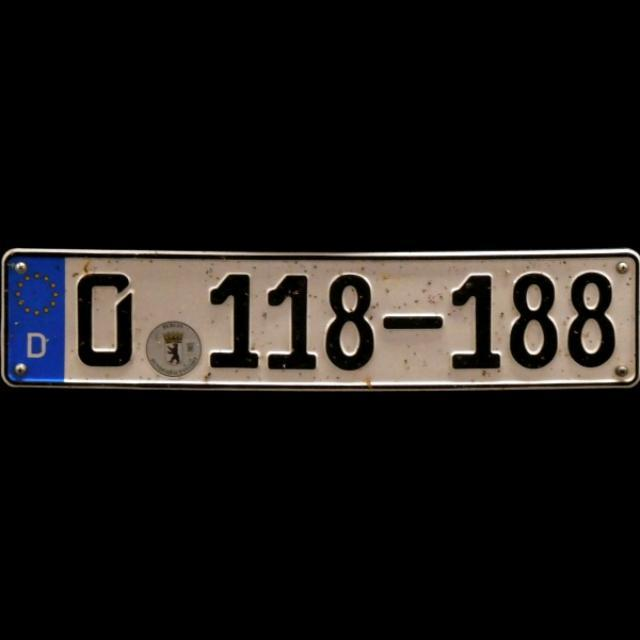license-plates: (2, 249, 640, 388)
